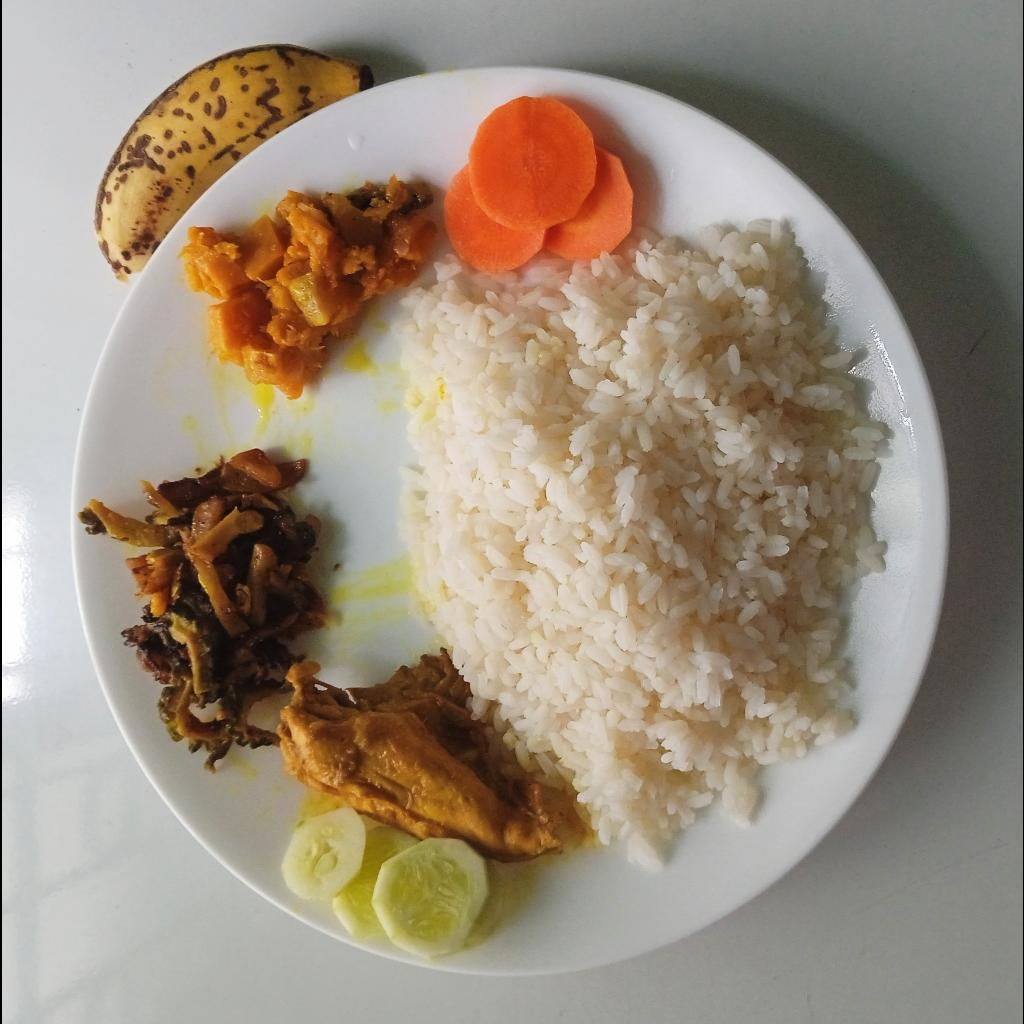banana: (93, 43, 376, 285)
carrot: (442, 95, 634, 275)
chicken: (275, 646, 585, 862)
cucumber: (280, 804, 500, 961)
korola-vaji: (78, 447, 328, 777)
kumra-vaji: (178, 179, 440, 401)
rice: (390, 218, 888, 873)
